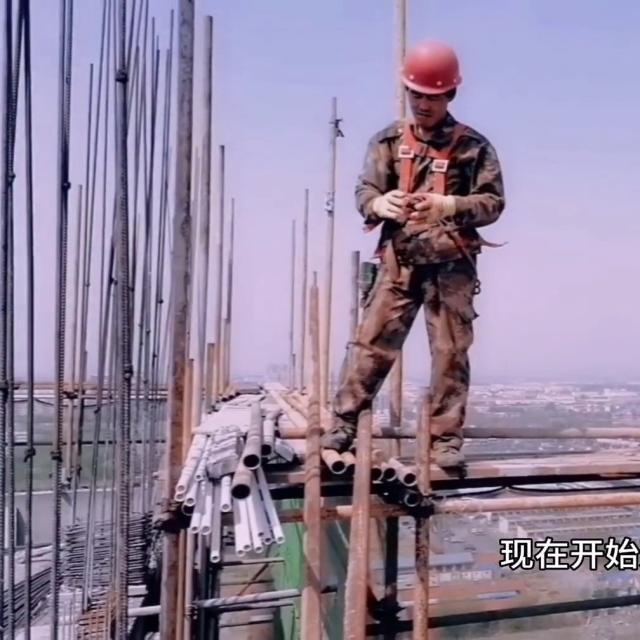Arnes_seguridad: (376, 112, 485, 229)
